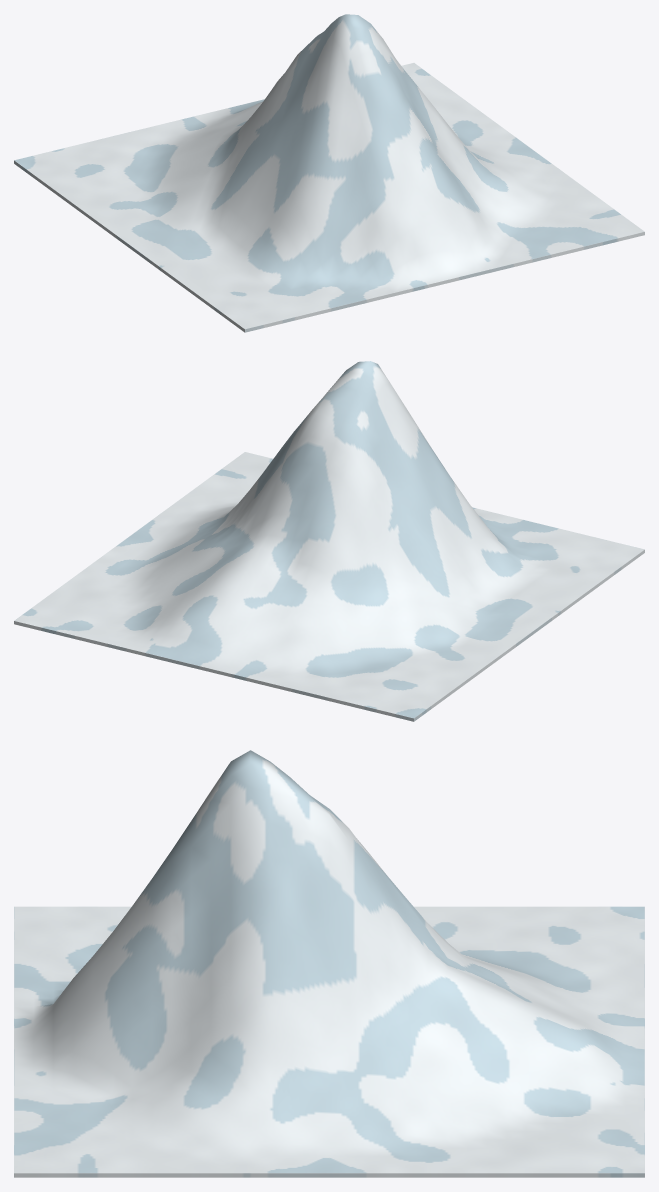
The model's file is Snow_Mountains_07.obj.
3 views of the same model, one above another, from view 1: azimuth 30°, elevation 25°; view 2: azimuth 150°, elevation 25°; view 3: azimuth 270°, elevation 25° (orthographic). The views are drawn at different scales.
Size of the model in its own units: 10 by 5 by 10.
1 material, 1 textured.
